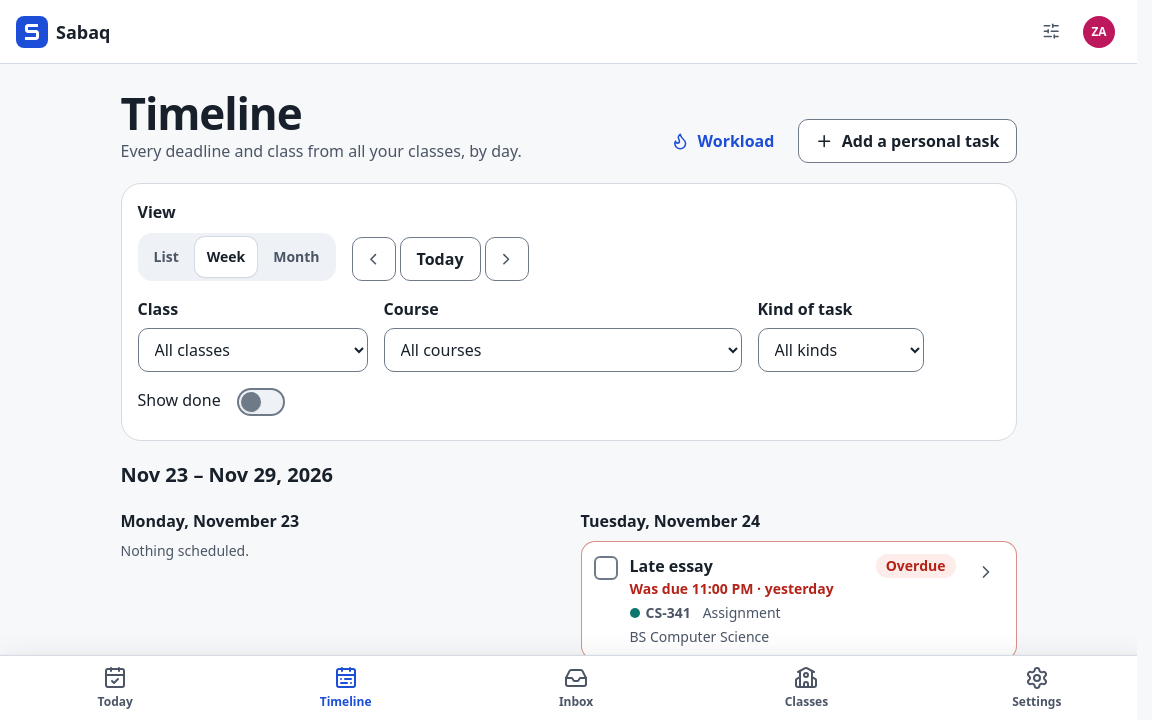
Scenario: Timeline › moves through weeks, fetching each one
Expected: the heading "Nov 23 – Nov 29, 2026" is shown, top-left (120, 461), bottom-right (333, 488)
Click the button named "Next week" at {"x": 506, "y": 259}, box top-left (484, 237), bottom-right (528, 281)
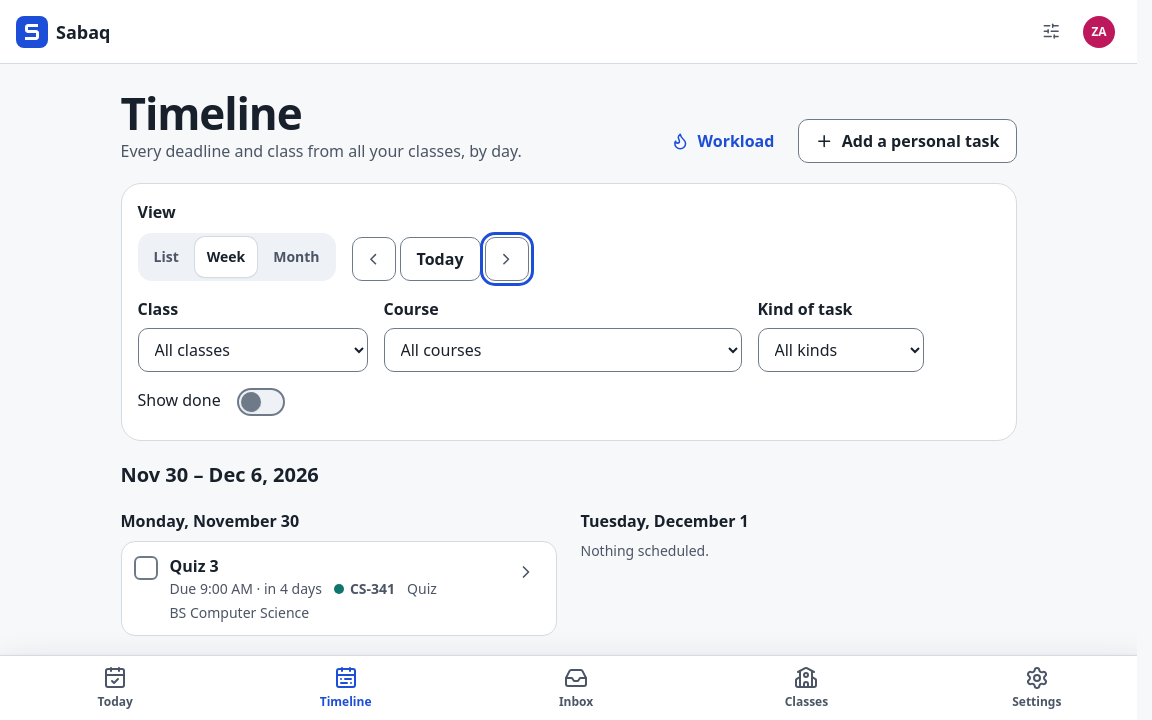
Expected: the heading "Nov 30 – Dec 6, 2026" is shown, top-left (120, 461), bottom-right (319, 488)
Click the button named "Previous week" at {"x": 374, "y": 259}, box top-left (352, 237), bottom-right (396, 281)
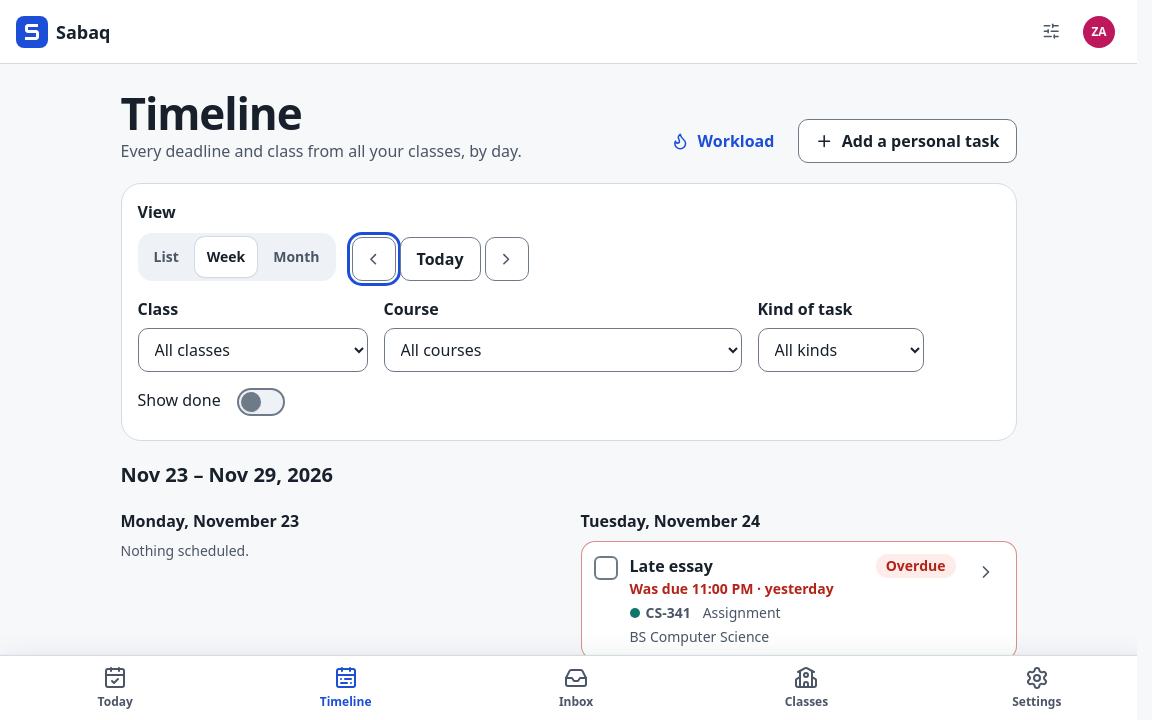
Click the button named "Previous week" at {"x": 374, "y": 259}, box top-left (352, 237), bottom-right (396, 281)
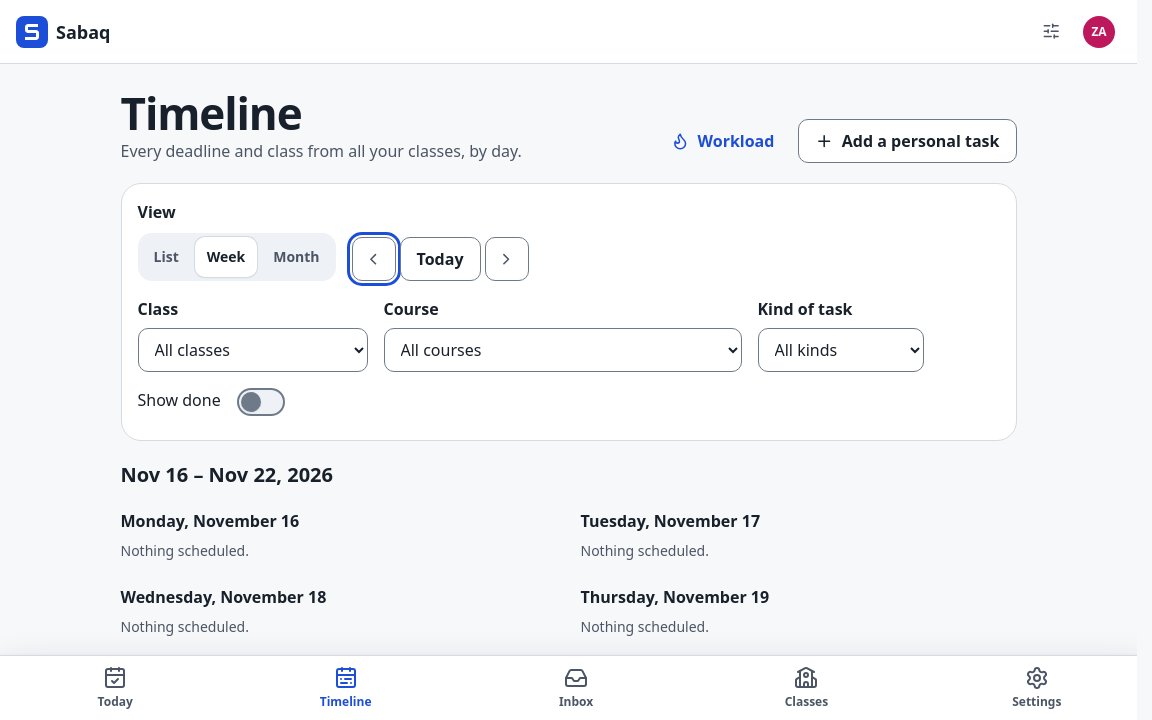
Expected: the heading "Nov 16 – Nov 22, 2026" is shown, top-left (120, 461), bottom-right (333, 488)
Click the button "Today" at {"x": 440, "y": 259}, box top-left (400, 237), bottom-right (481, 281)
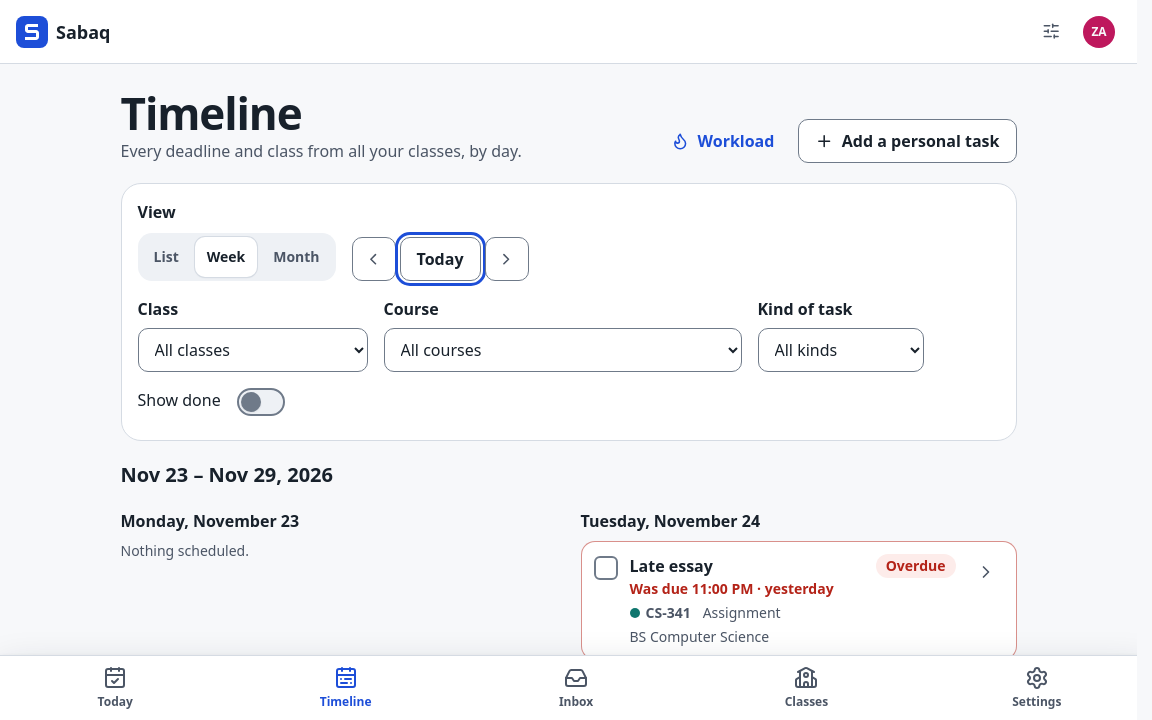
Expected: the heading "Nov 23 – Nov 29, 2026" is shown, top-left (120, 461), bottom-right (333, 488)
